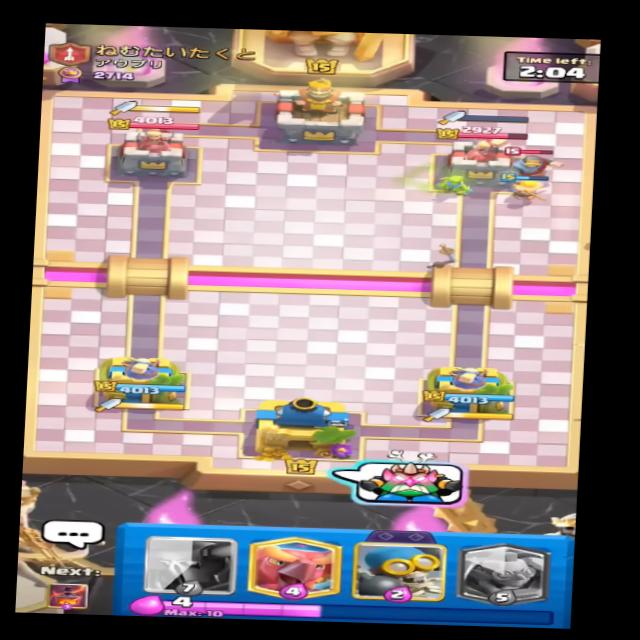knight: (489, 146, 561, 188)
